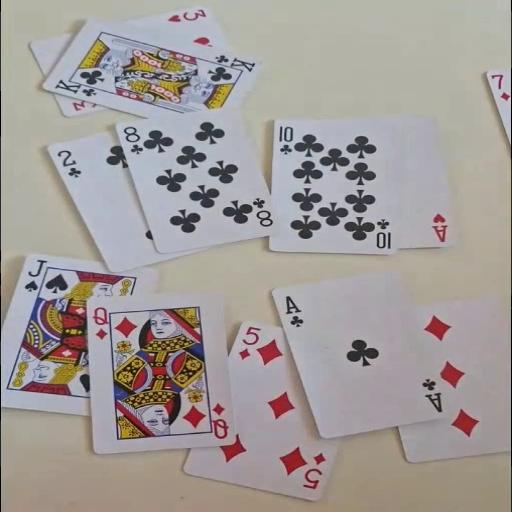10: (374, 217, 392, 249), (276, 124, 294, 155)
2: (54, 147, 82, 179)
3: (164, 7, 209, 23)
5: (299, 450, 329, 491), (236, 324, 264, 361)
7: (488, 72, 510, 102)
8: (250, 195, 274, 228), (120, 124, 144, 155)
A: (420, 376, 445, 413), (283, 294, 306, 328), (429, 211, 449, 243)
J: (21, 257, 48, 293)
K: (52, 77, 99, 98)
Q: (208, 401, 230, 440), (90, 305, 110, 341)
